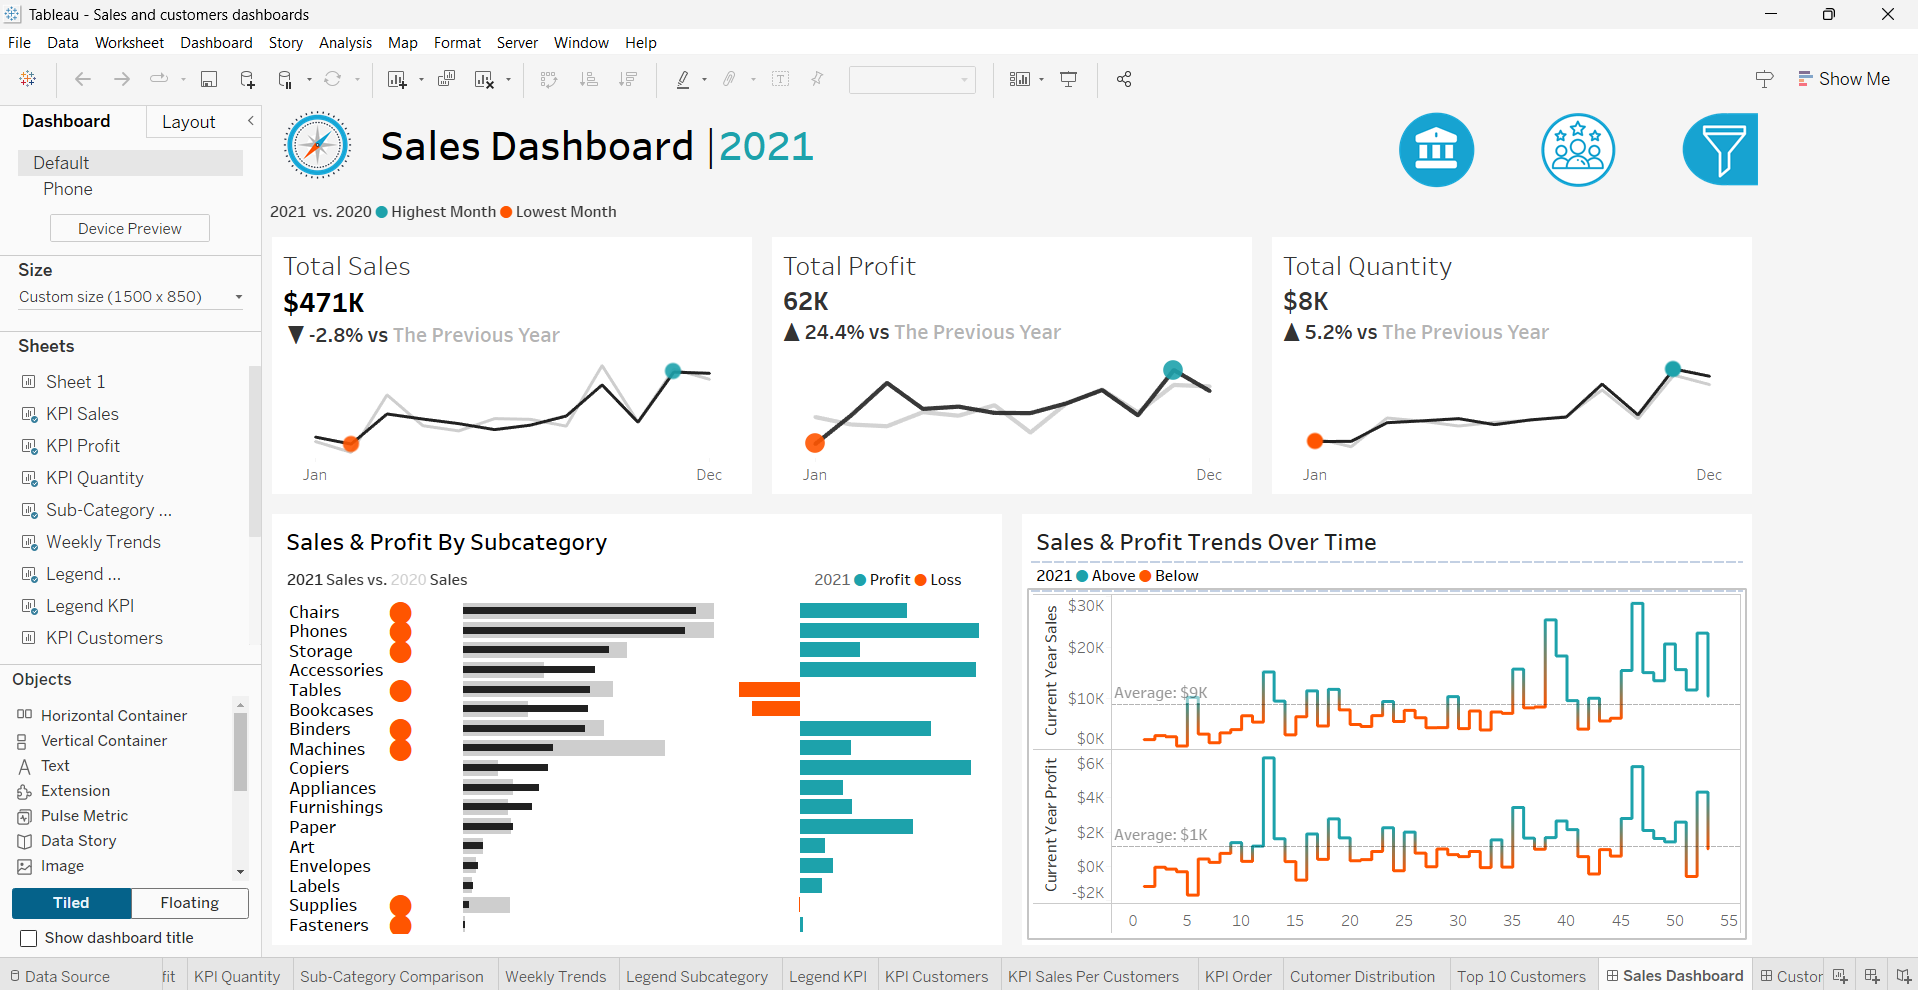

This screenshot's page, from the dashboard's own definition file:
{"tool":"tableau","page":{"name":"Sales Dashboard","canvas":[1500,850],"ordinal":1},"visuals":[{"type":"image","param":"D:/Self study/Tablue/Sales Project1/Icons/Icon - Logo.png","box":[0,0,111,78.6]},{"type":"text","box":[111,0,1389,78.6]},{"type":"dashboard-object","box":[1103,2,142,85]},{"type":"dashboard-object","box":[1245,2,142,85]},{"type":"blank","box":[1140,12,356,85]},{"type":"worksheet","title":"Legend KPI","mark":"Automatic","box":[0,78.6,1500,53.4]},{"type":"text","box":[1140,97,356,40]},{"type":"worksheet","title":"KPI Sales","mark":"Automatic","rows":["Calculation_261208837074280452"],"cols":["Order Date"],"box":[0,132,500,267]},{"type":"worksheet","title":"KPI Profit","mark":"Line","rows":["Min/Max Sales (copy)_261208837120872460"],"cols":["Order Date"],"box":[500,132,500,267]},{"type":"worksheet","title":"KPI Quantity","mark":"Automatic","rows":["Min/Max Profit (copy)_261208837135589397"],"cols":["Order Date"],"box":[1000,132,500,267]},{"type":"parameter","param":"[Parameters].[Parameter 1]","box":[1140,137,356,56]},{"type":"text","box":[1140,193,356,33]},{"type":"filter","title":"KPI Sales","param":"[federated.03n9n4d1g4srtp1bs244m1676c7a].[none:Category:nk]","box":[1140,226,356,61]},{"type":"filter","title":"KPI Sales","param":"[federated.03n9n4d1g4srtp1bs244m1676c7a].[none:Sub-Category:nk]","box":[1140,287,356,61]},{"type":"blank","box":[1140,348,356,35]},{"type":"text","box":[1140,383,356,33]},{"type":"text","box":[17,416,716,40]},{"type":"text","box":[767,416,716,40]},{"type":"filter","title":"KPI Sales","param":"[federated.03n9n4d1g4srtp1bs244m1676c7a].[none:Region:nk]","box":[1140,416,356,61]},{"type":"worksheet","title":"Legend Subcategory","mark":"Automatic","box":[17,456,528,36]},{"type":"text","box":[545,456,188,36]},{"type":"text","box":[767,456,716,29]},{"type":"filter","title":"KPI Sales","param":"[federated.03n9n4d1g4srtp1bs244m1676c7a].[none:State:nk]","box":[1140,477,356,61]},{"type":"worksheet","title":"Weekly Trends","mark":"Automatic","rows":["Calculation_261208837067763712","Current Year Sales (copy)_261208837118124041"],"cols":["Order Date"],"box":[767,485,716,348]},{"type":"worksheet","title":"Sub-Category Comparison","mark":"Bar","rows":["Sub-Category","Calculation_261208837161906201"],"cols":["Current Year Sales (copy)_261208837068390401","Calculation_261208837067763712","Current Year Sales (copy)_261208837118124041"],"box":[17,492,716,340.9]},{"type":"filter","title":"KPI Sales","param":"[federated.03n9n4d1g4srtp1bs244m1676c7a].[none:City:nk]","box":[1140,538,356,61]}]}

Visuals, with their boxes on the page's 1500x850 design canvas (x1, y1, x2, y2). These are canvas units, not pixel positions in the 1918x990 screenshot, which may show the page scaled, cropped or inside an application window:
image: [left=0, top=0, right=111, bottom=79]
text: [left=111, top=0, right=1500, bottom=79]
dashboard-object: [left=1103, top=2, right=1245, bottom=87]
dashboard-object: [left=1245, top=2, right=1387, bottom=87]
blank: [left=1140, top=12, right=1496, bottom=97]
"Legend KPI" worksheet: [left=0, top=79, right=1500, bottom=132]
text: [left=1140, top=97, right=1496, bottom=137]
"KPI Sales" worksheet: [left=0, top=132, right=500, bottom=399]
"KPI Profit" worksheet (Line marks): [left=500, top=132, right=1000, bottom=399]
"KPI Quantity" worksheet: [left=1000, top=132, right=1500, bottom=399]
parameter: [left=1140, top=137, right=1496, bottom=193]
text: [left=1140, top=193, right=1496, bottom=226]
"KPI Sales" filter: [left=1140, top=226, right=1496, bottom=287]
"KPI Sales" filter: [left=1140, top=287, right=1496, bottom=348]
blank: [left=1140, top=348, right=1496, bottom=383]
text: [left=1140, top=383, right=1496, bottom=416]
text: [left=17, top=416, right=733, bottom=456]
text: [left=767, top=416, right=1483, bottom=456]
"KPI Sales" filter: [left=1140, top=416, right=1496, bottom=477]
"Legend Subcategory" worksheet: [left=17, top=456, right=545, bottom=492]
text: [left=545, top=456, right=733, bottom=492]
text: [left=767, top=456, right=1483, bottom=485]
"KPI Sales" filter: [left=1140, top=477, right=1496, bottom=538]
"Weekly Trends" worksheet: [left=767, top=485, right=1483, bottom=833]
"Sub-Category Comparison" worksheet (Bar marks): [left=17, top=492, right=733, bottom=833]
"KPI Sales" filter: [left=1140, top=538, right=1496, bottom=599]
